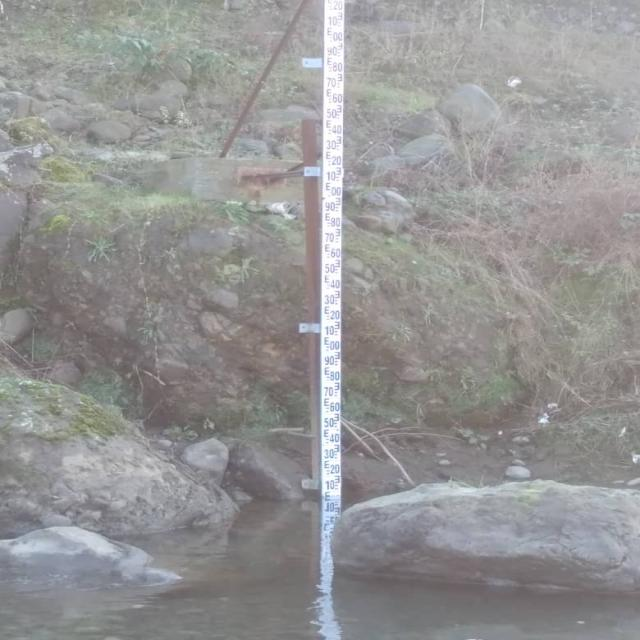ruler: (304, 0, 354, 502)
value: (323, 105, 340, 121), (326, 153, 345, 167), (320, 415, 337, 430), (326, 399, 343, 414), (322, 169, 340, 183), (327, 122, 345, 136), (328, 91, 346, 105), (322, 199, 337, 214), (322, 478, 338, 492), (321, 262, 337, 276), (328, 215, 344, 229), (327, 247, 344, 260), (327, 185, 344, 198), (326, 370, 344, 382), (320, 294, 338, 306), (322, 323, 337, 337), (324, 138, 339, 152), (321, 447, 337, 460), (321, 354, 338, 366), (328, 431, 342, 445), (321, 384, 335, 398), (322, 230, 337, 243), (327, 278, 343, 290), (328, 462, 342, 475), (328, 308, 342, 321), (327, 339, 342, 351)
